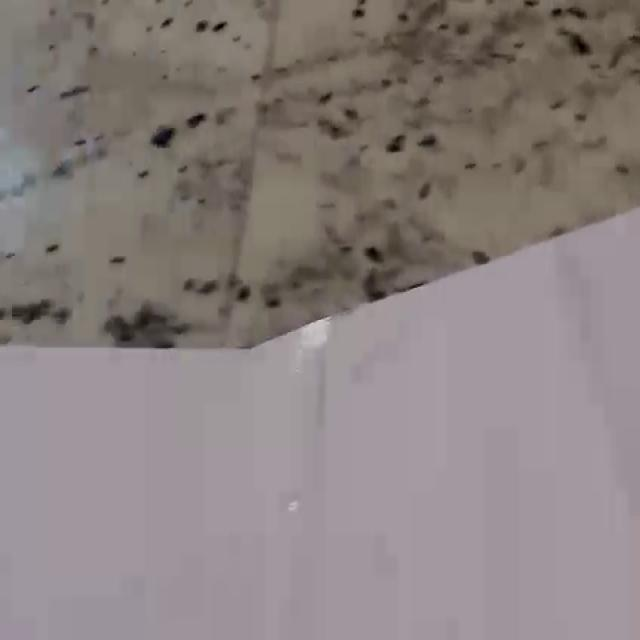road: (0, 207, 640, 640)
